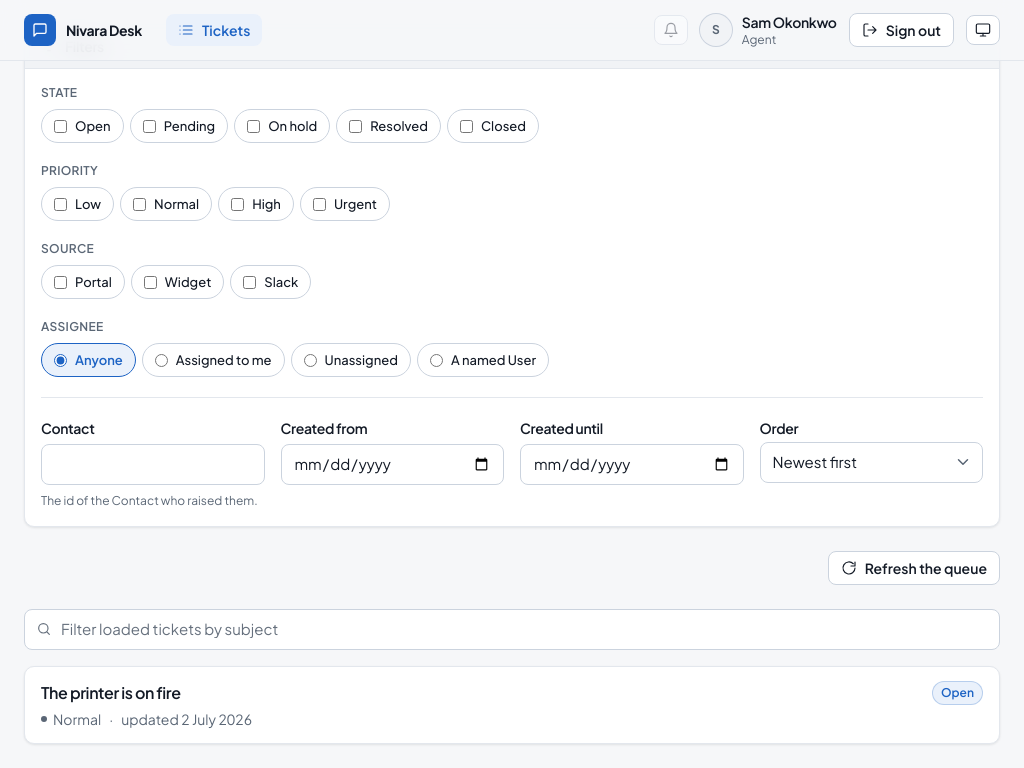
Test case: a conversation that has run through more than one Ticket › leaves a conversation of one unlabelled, because there is nothing to tell apart
(page scrolled)
Click the button "The printer is on fire Normal · updated 2 July 2026 Open" at (111, 692), box [25,666,999,742]
(page scrolled)
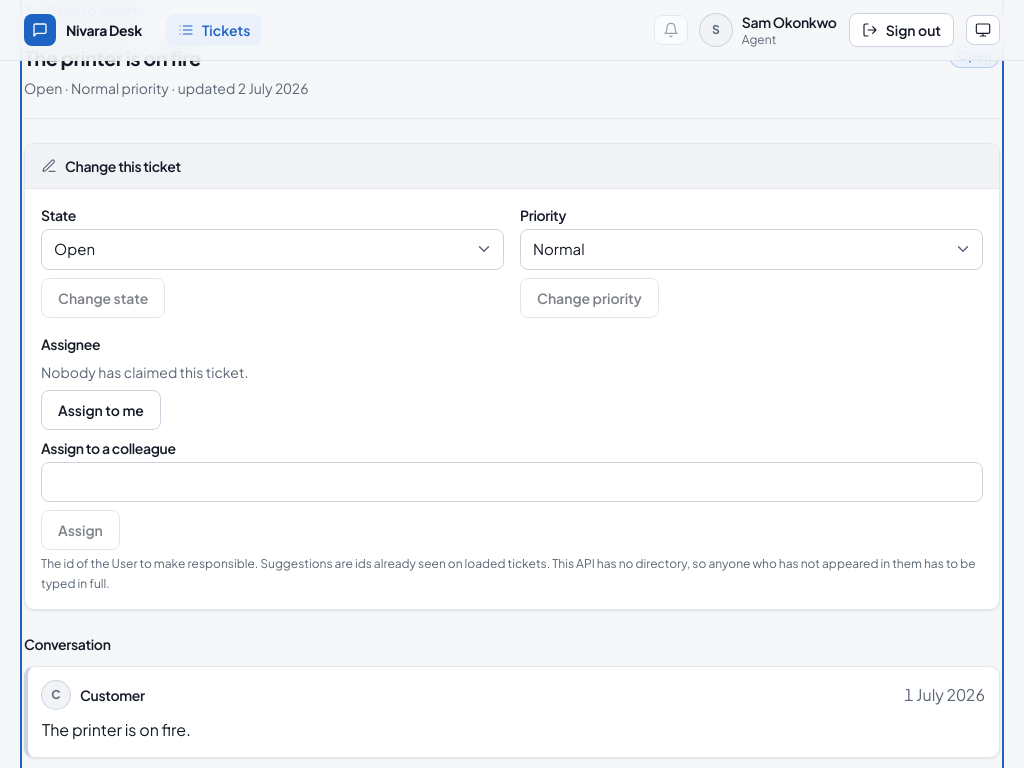
Expected: the list item does not show "This ticket"
Result: the heading "The printer is on fire" is shown at [24,44,201,72]
